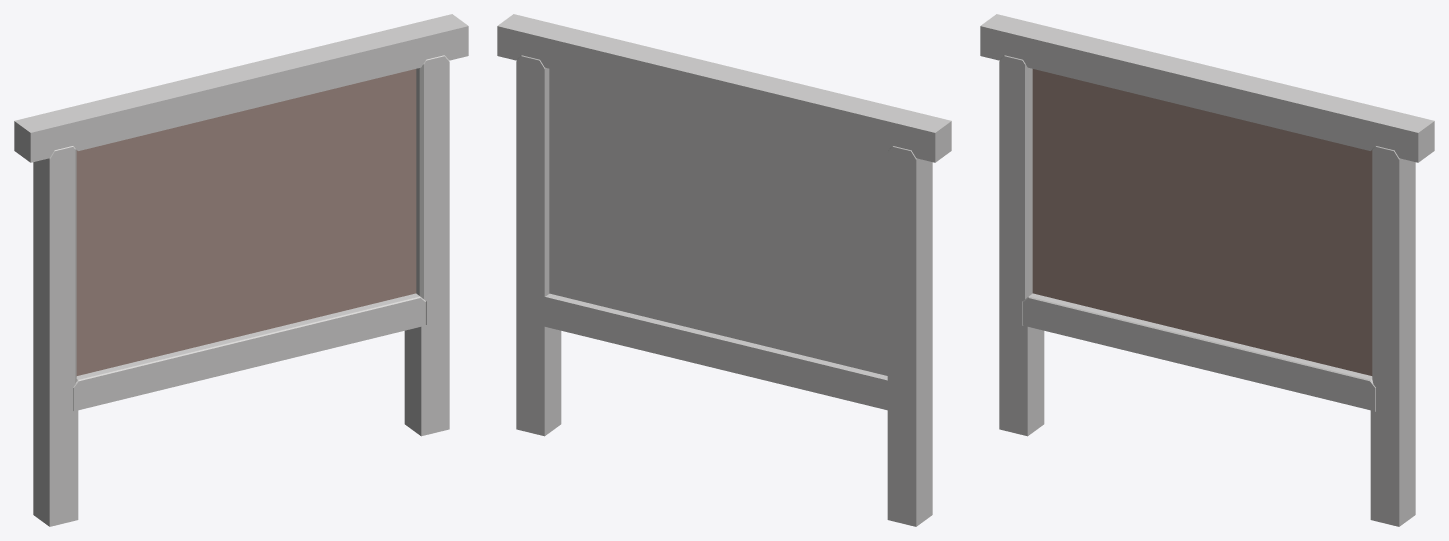
The model's file is 1045_information_board.glb.
The picture shows the model from 3 angles, left to right: view 1: azimuth 30°, elevation 25°; view 2: azimuth 150°, elevation 25°; view 3: azimuth 330°, elevation 25°; orthographic projection.
Visible parts, largest first — view 1: Body; view 2: Body; view 3: Body.
Boxes of the visible parts, x1,y1,x2,y2 form: Body: (14,14,468,526); Body: (497,14,951,526); Body: (980,14,1434,526).
Size of the model in its own units: 2.3 by 2 by 0.15.
